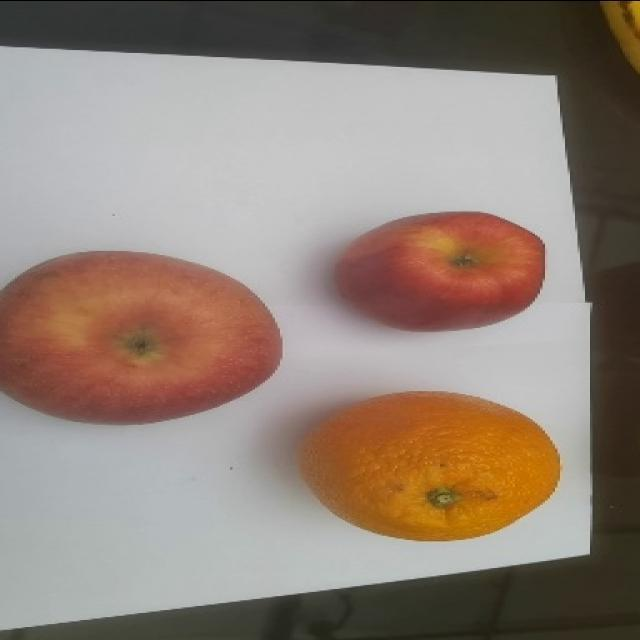Apple: (0, 249, 283, 425), (334, 210, 545, 332)
Banana: (599, 0, 639, 76)
Orange: (298, 389, 561, 542)
